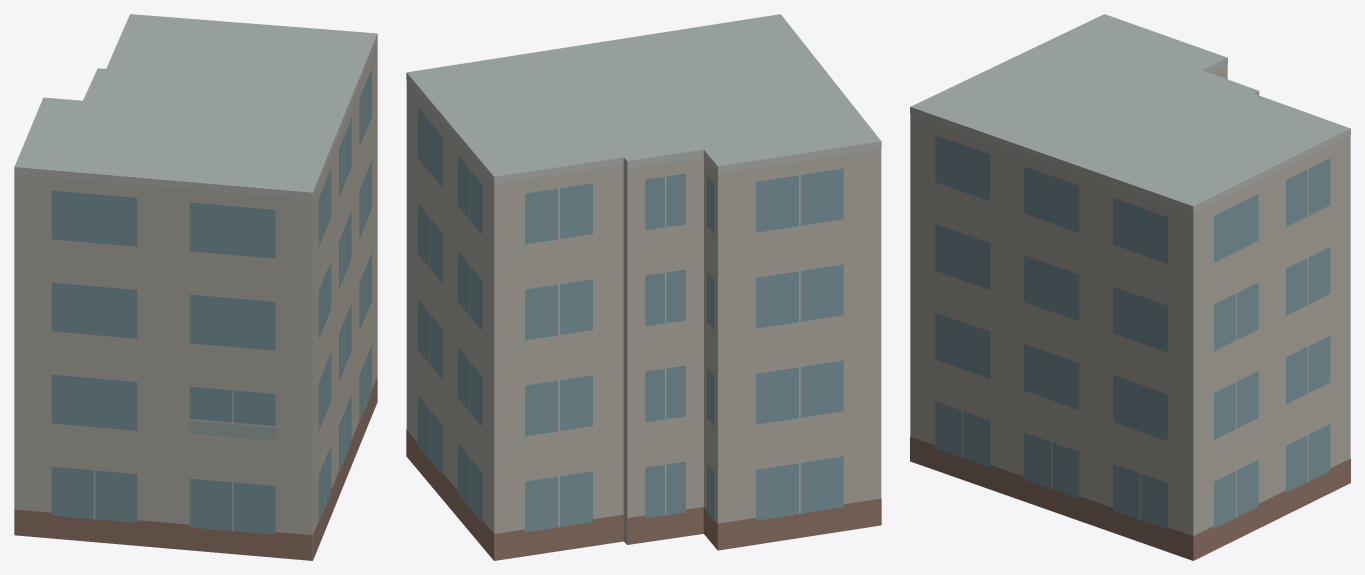
The model's file is survey-upis-32700882.glb.
3 renders of one model, left to right at view 1: azimuth 30°, elevation 25°; view 2: azimuth 150°, elevation 25°; view 3: azimuth 270°, elevation 25°, orthographic. The views are drawn at different scales.
Parts seen in each view (by area): view 1: survey-upis-32700882.tmp; view 2: survey-upis-32700882.tmp; view 3: survey-upis-32700882.tmp.
Part boxes in pixels (x1,y1,x2,y2): survey-upis-32700882.tmp: (14,14,377,560); survey-upis-32700882.tmp: (406,14,881,560); survey-upis-32700882.tmp: (910,14,1350,560).
Size of the model in its own units: 14.78 by 12.7 by 14.31.
